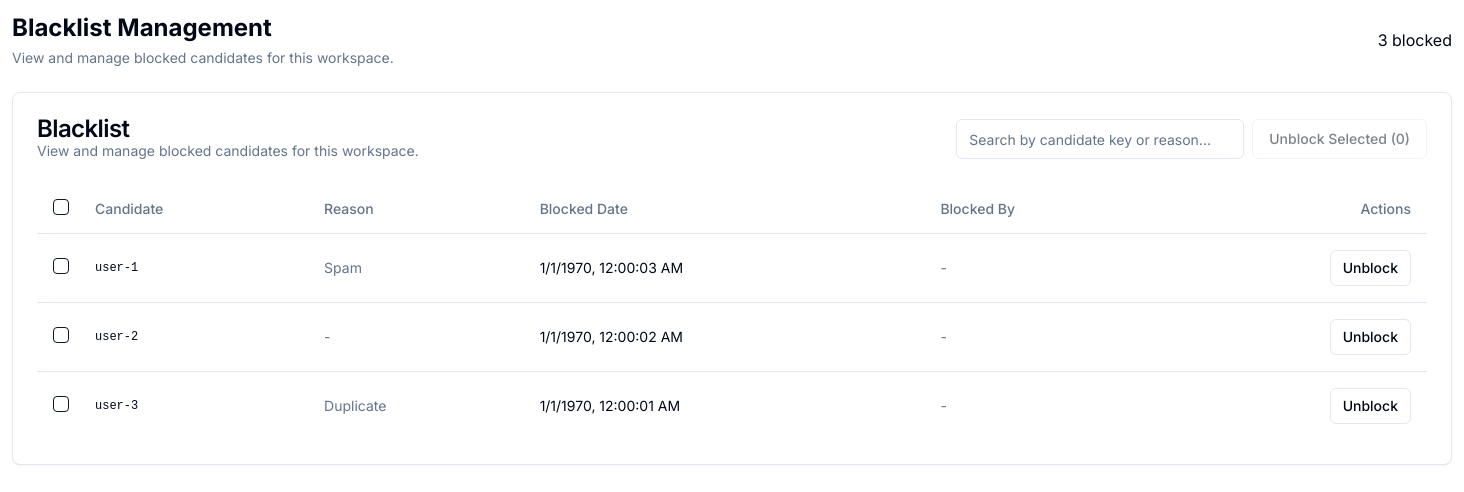
Test case: BlacklistPage › cancelling row unblock dismisses confirmation
What coordinates should you click on to do the following:
click the button with test id "blacklist-row-unblock"
I would click on:
 (1370, 268)
Its box is [1330,250,1411,286].
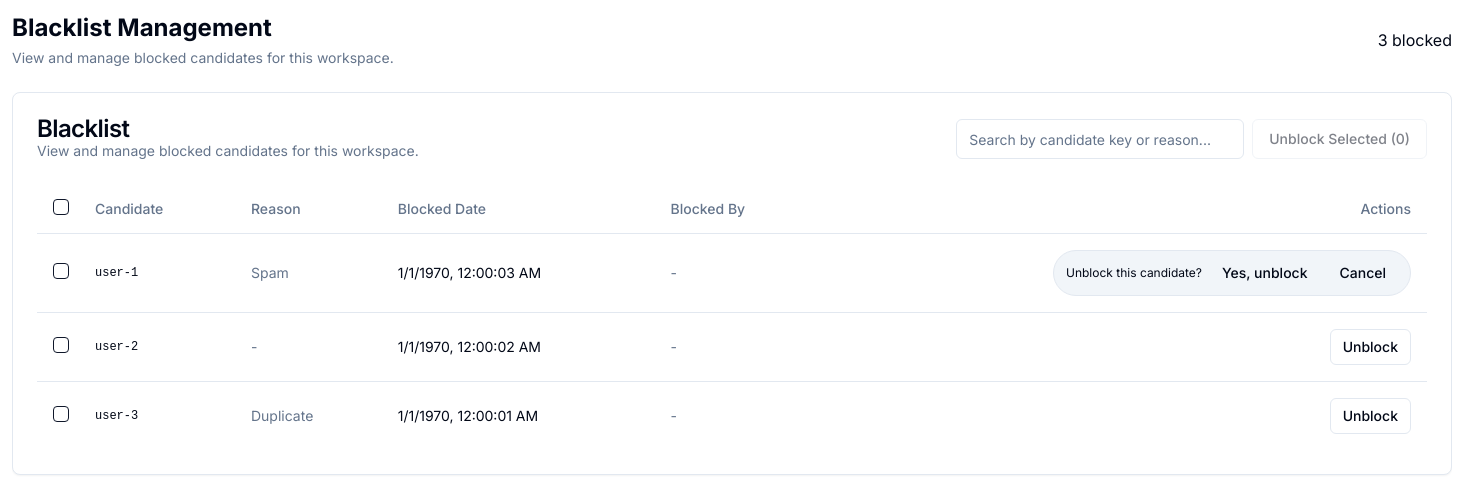
Expected: the element with test id "unblock-confirm-row" is shown, [1053,250,1411,296]
What coordinates should you click on to do the following:
click the button with test id "unblock-confirm-cancel"
I would click on:
 (1363, 272)
Its box is [1328,254,1398,290].
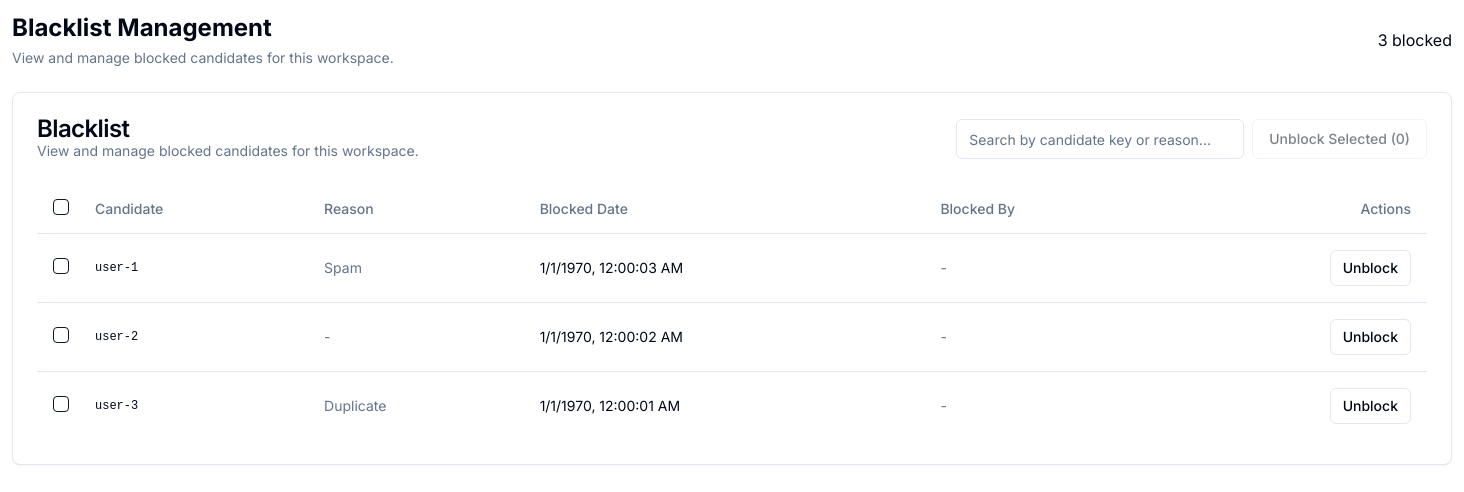
Expected: the element with test id "unblock-confirm-row" is gone
